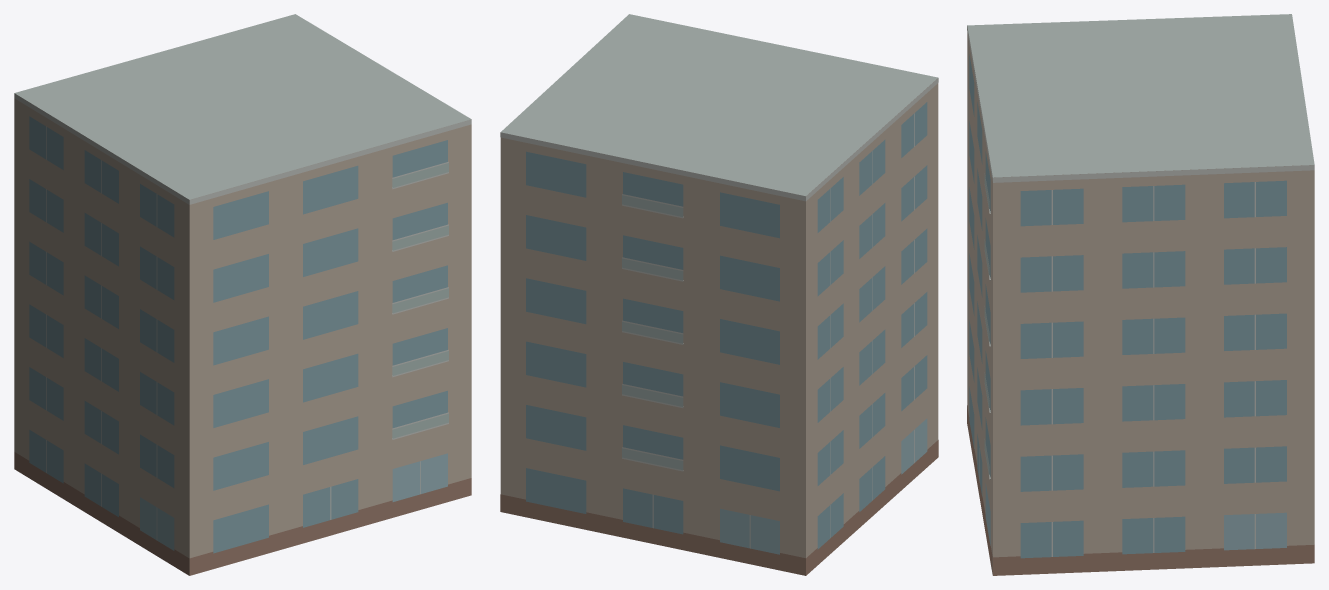
The model's file is survey-upis-32724090.glb.
The picture shows the model from 3 angles, left to right: view 1: azimuth 30°, elevation 25°; view 2: azimuth 150°, elevation 25°; view 3: azimuth 270°, elevation 25°; orthographic projection. The views are drawn at different scales.
Visible parts, largest first — view 1: survey-upis-32724090.tmp; view 2: survey-upis-32724090.tmp; view 3: survey-upis-32724090.tmp.
Part boxes in pixels (bbox=[...]): survey-upis-32724090.tmp: bbox=[14, 14, 471, 575]; survey-upis-32724090.tmp: bbox=[500, 14, 938, 575]; survey-upis-32724090.tmp: bbox=[967, 14, 1314, 575].
Bounding box in the file's own units: 15.85 × 18 × 14.24.
